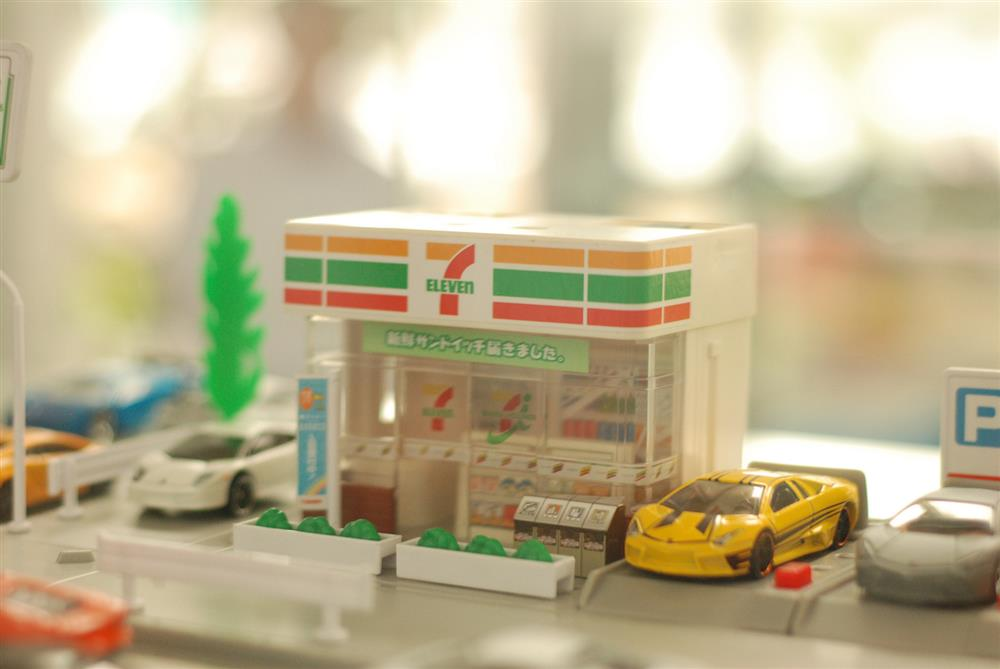seven_eleven: (406, 229, 484, 316)
